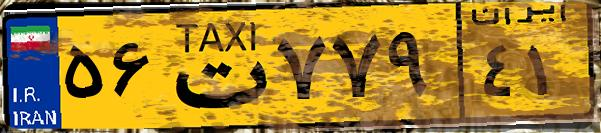1: (525, 38, 570, 115)
4: (475, 38, 525, 113)
5: (57, 26, 110, 100)
6: (110, 28, 158, 98)
7: (270, 28, 330, 110), (330, 28, 385, 110)
9: (385, 28, 445, 110)
ت: (158, 12, 270, 120)
